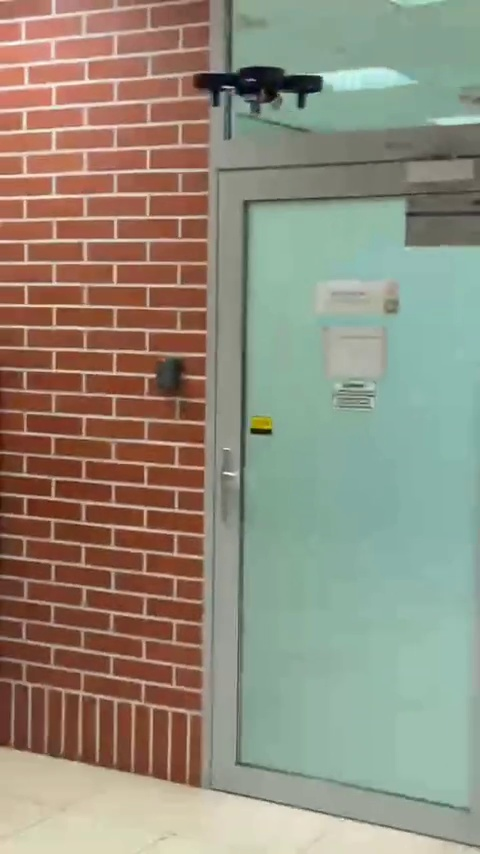drone: (182, 63, 328, 114)
